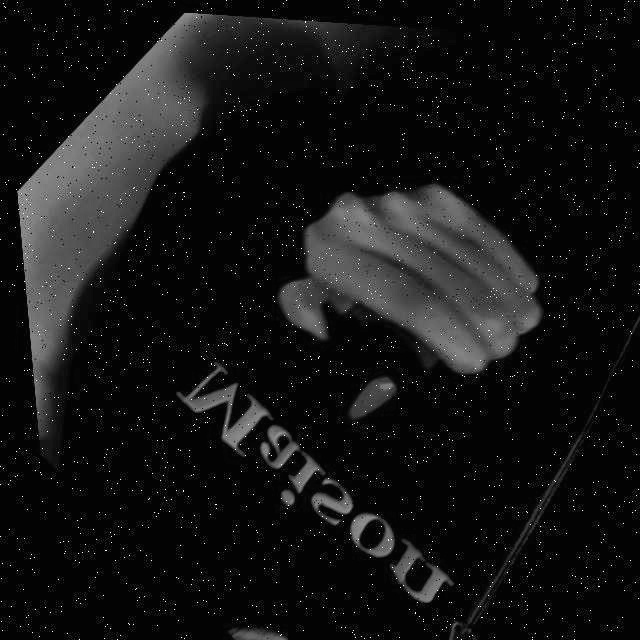Fire: (318, 360, 398, 440)
